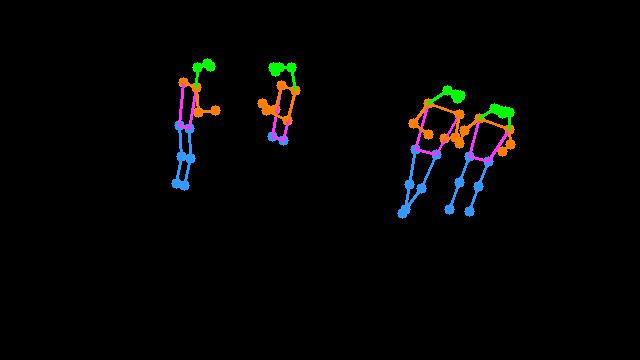normal: (144, 42, 320, 218), (375, 60, 524, 237)
